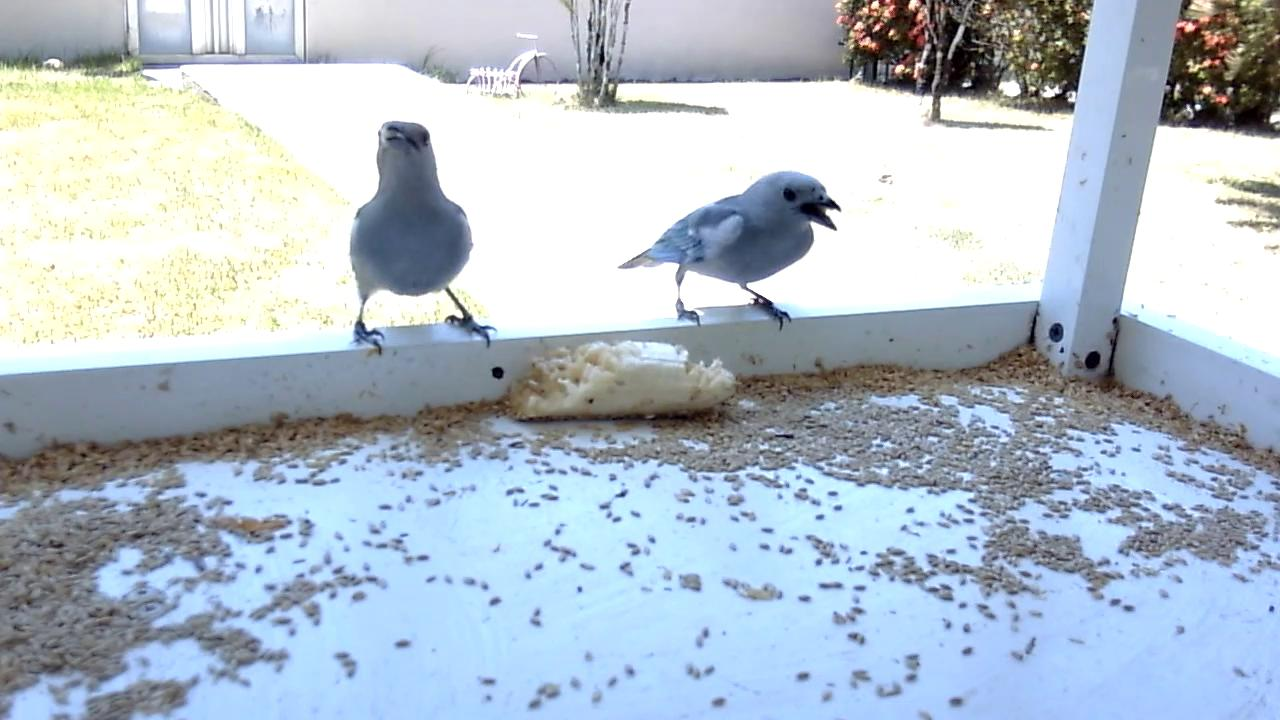sanhaco_da_amazonia: (618, 169, 848, 331), (347, 119, 500, 361)
